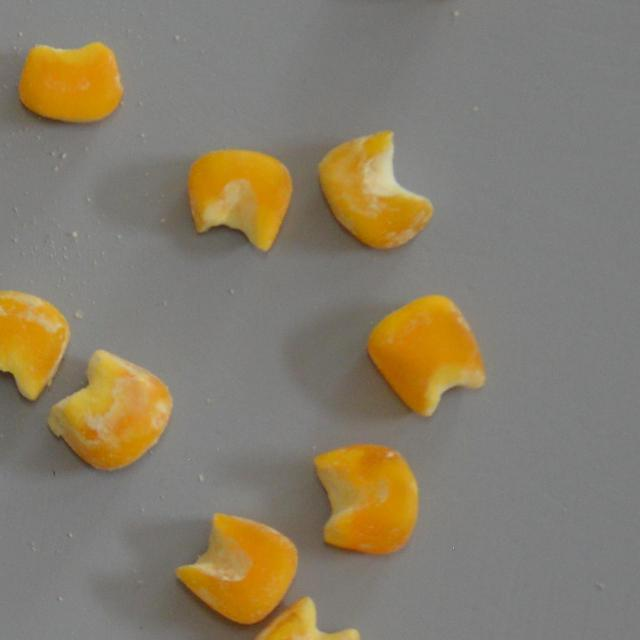dañado: (360, 288, 490, 424), (43, 346, 175, 477), (313, 124, 436, 254), (169, 506, 301, 626), (308, 440, 420, 558), (0, 286, 74, 404), (243, 593, 362, 640)
no_desgerminado: (186, 144, 296, 254)
pelicula: (14, 38, 126, 126)
